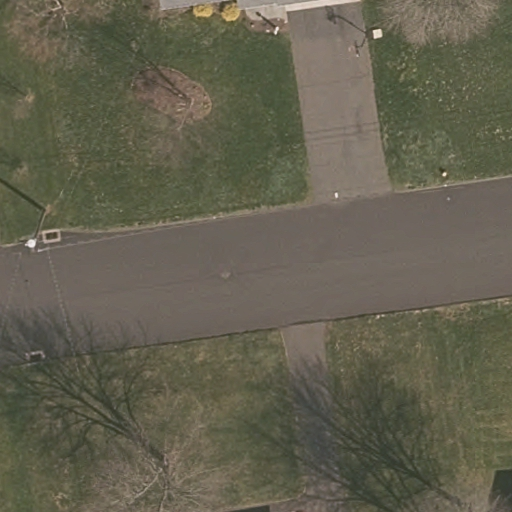DT: (18, 231, 47, 255)
